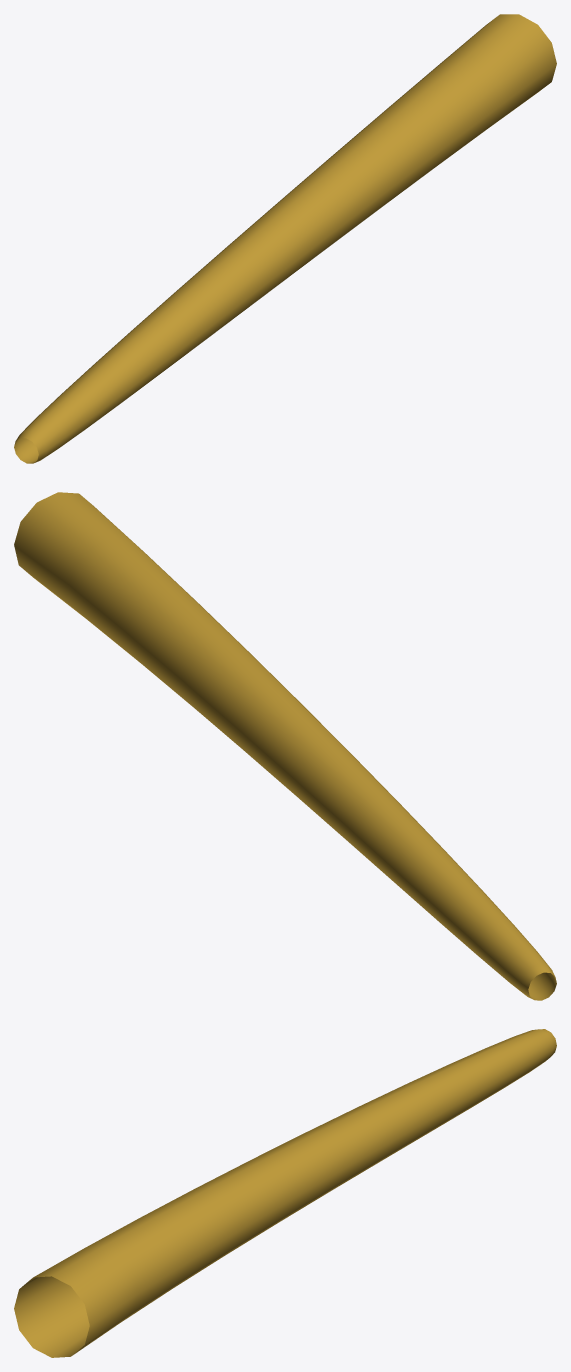
3 views of the same model, one above another, from view 1: azimuth 90°, elevation 25°; view 2: azimuth 150°, elevation 25°; view 3: azimuth 270°, elevation 25° (orthographic). The views are drawn at different scales.
Visible parts, largest first — view 1: 右侧臂丛下干后股; view 2: 右侧臂丛下干后股; view 3: 右侧臂丛下干后股.
Boxes of the visible parts, <box> form: 右侧臂丛下干后股: <box>14,14,556,463</box>; 右侧臂丛下干后股: <box>14,492,556,1000</box>; 右侧臂丛下干后股: <box>14,1029,556,1357</box>.
Size of the model in its own units: 0.0413 by 0.00641 by 0.0272.
